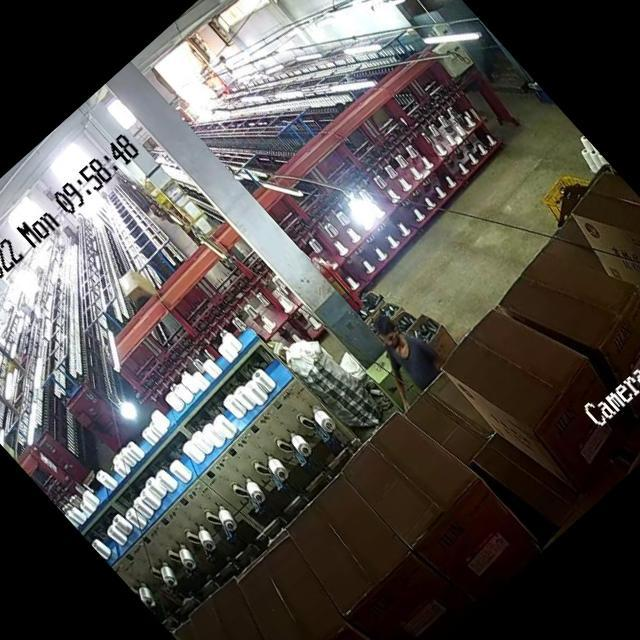person: (367, 313, 434, 382)
